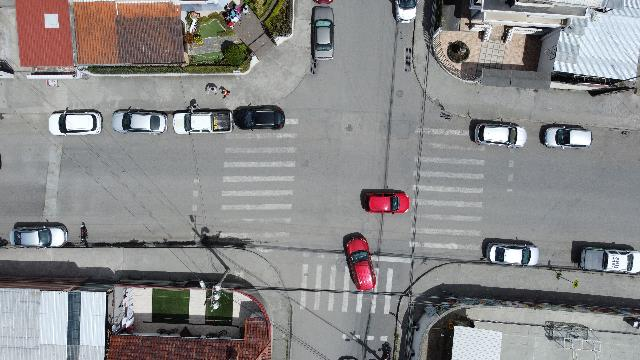Vehiculo: (342, 232, 376, 292), (578, 246, 640, 276), (469, 119, 527, 147), (112, 107, 168, 135), (173, 108, 233, 134), (49, 108, 103, 136), (10, 221, 68, 247), (484, 240, 540, 266), (540, 123, 592, 149), (233, 104, 284, 130), (310, 6, 334, 60), (360, 189, 410, 213), (392, 1, 418, 23), (313, 1, 333, 4)
